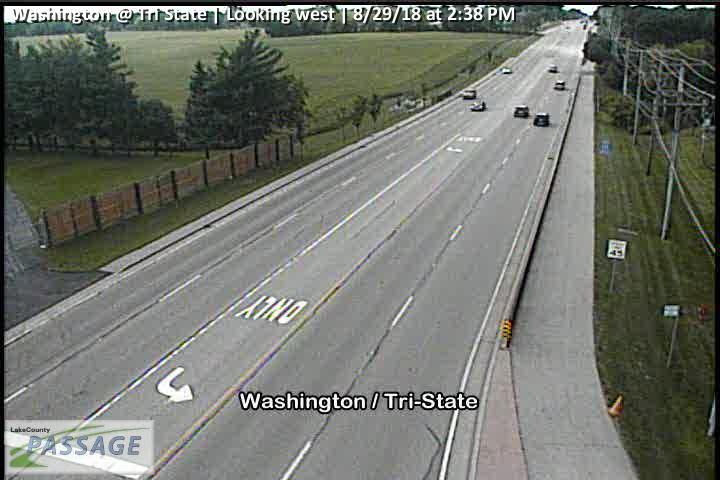SUV: (533, 111, 550, 128), (513, 105, 529, 117), (461, 88, 475, 99), (553, 80, 565, 91)
Sedan: (468, 100, 487, 113), (547, 65, 558, 73), (500, 67, 512, 73)
